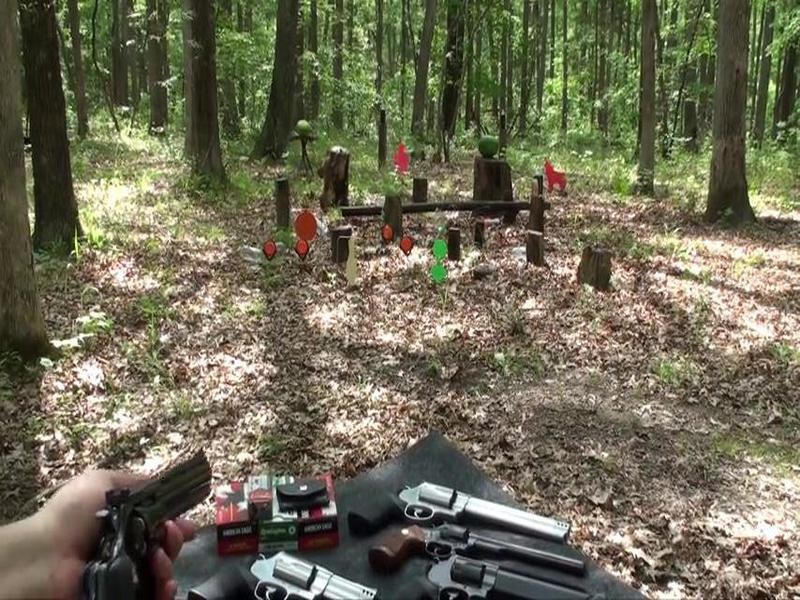Revolver: (89, 440, 235, 600)
